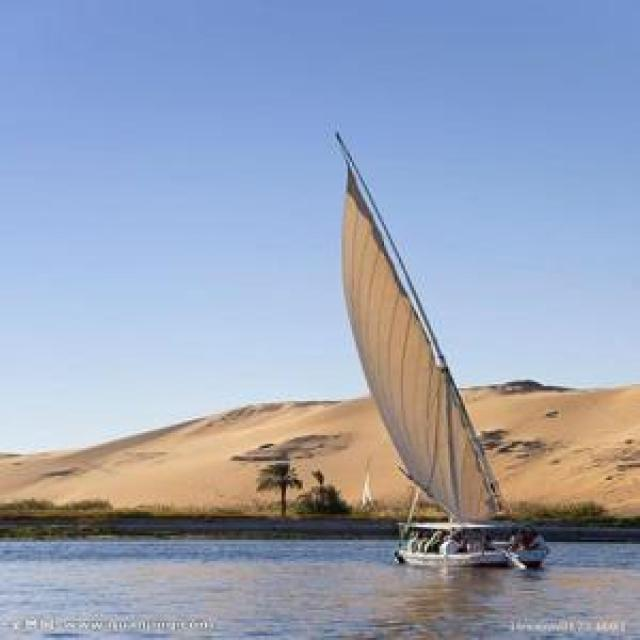sailboat: (328, 126, 554, 568)
